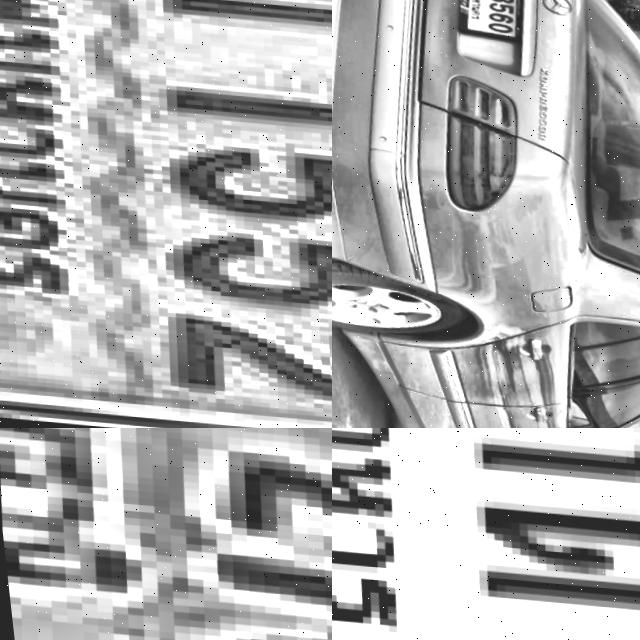license-plate: (0, 0, 332, 428), (0, 428, 332, 640), (332, 428, 640, 640), (446, 0, 530, 45)
